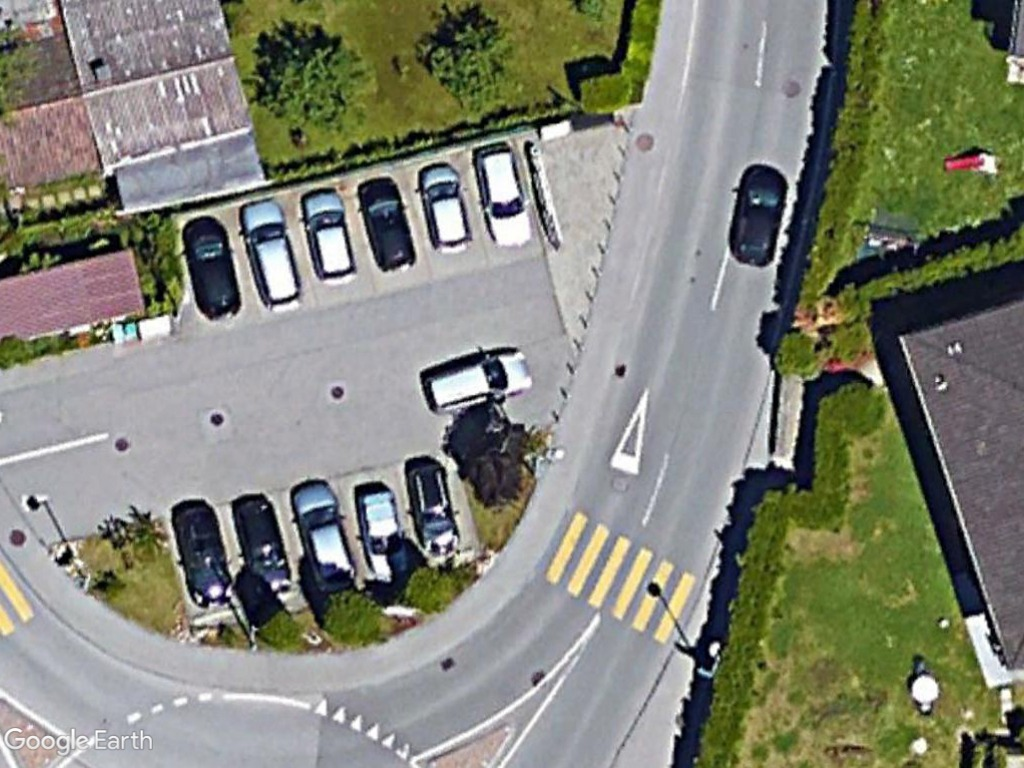car: (422, 347, 535, 419), (287, 481, 359, 593), (235, 199, 305, 314), (468, 140, 539, 251), (178, 215, 245, 322), (727, 158, 791, 269), (297, 189, 360, 288), (359, 178, 421, 272), (417, 160, 474, 256)
